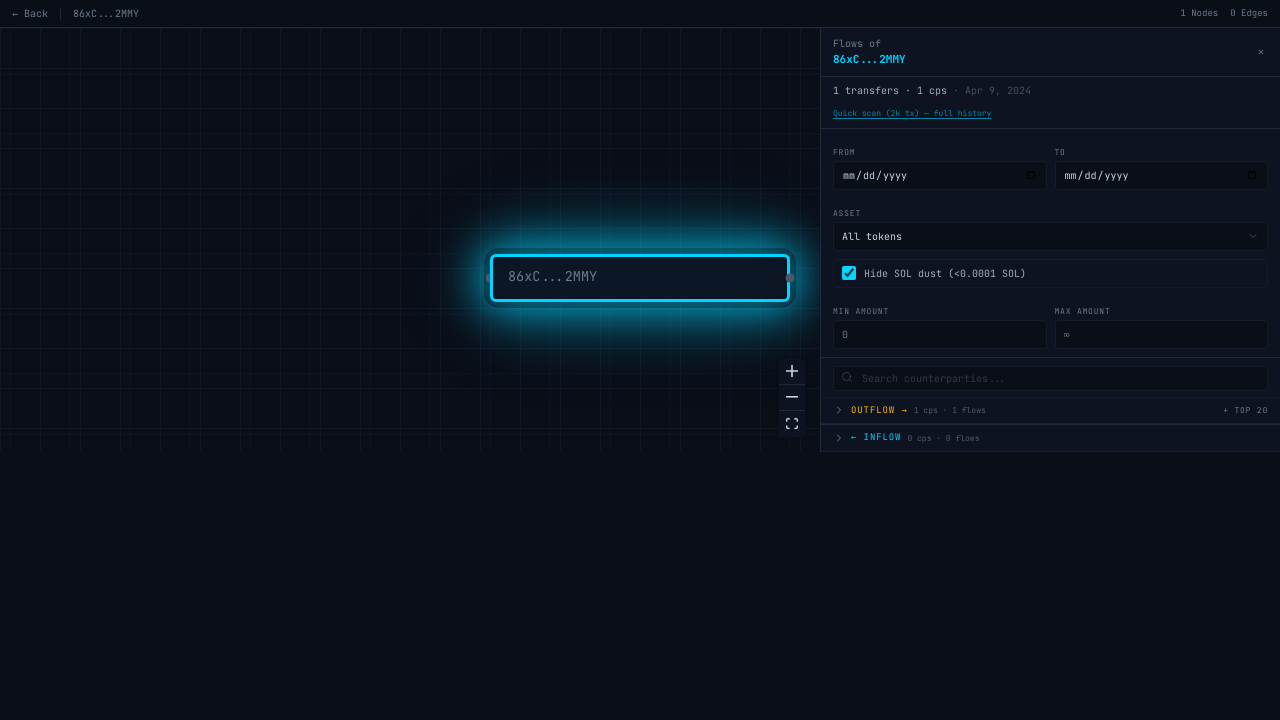
Test: TraceExplorer › resolves visible counterparty labels client-side without showing a global enrichment banner
Click the text "Outflow →" at (879, 410), box [851,404,908,417]
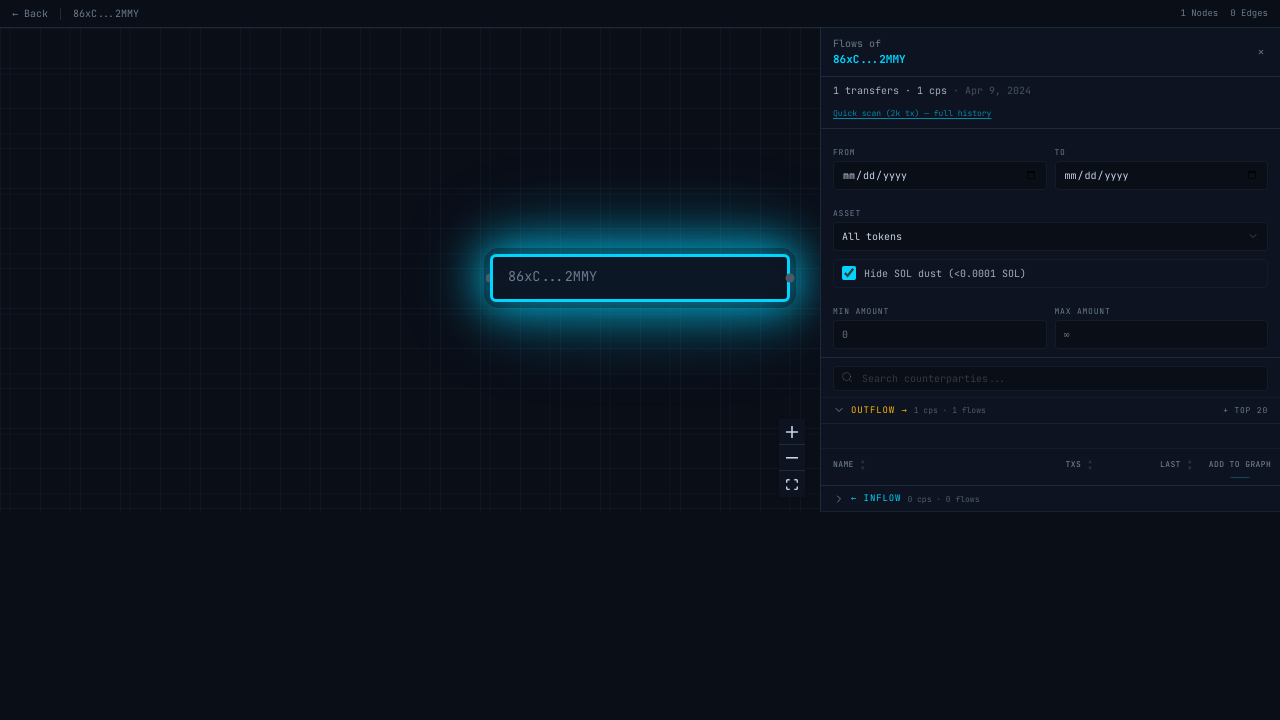
expect the text "Resolved Counterparty" is shown: met, box [849,454,962,467]
